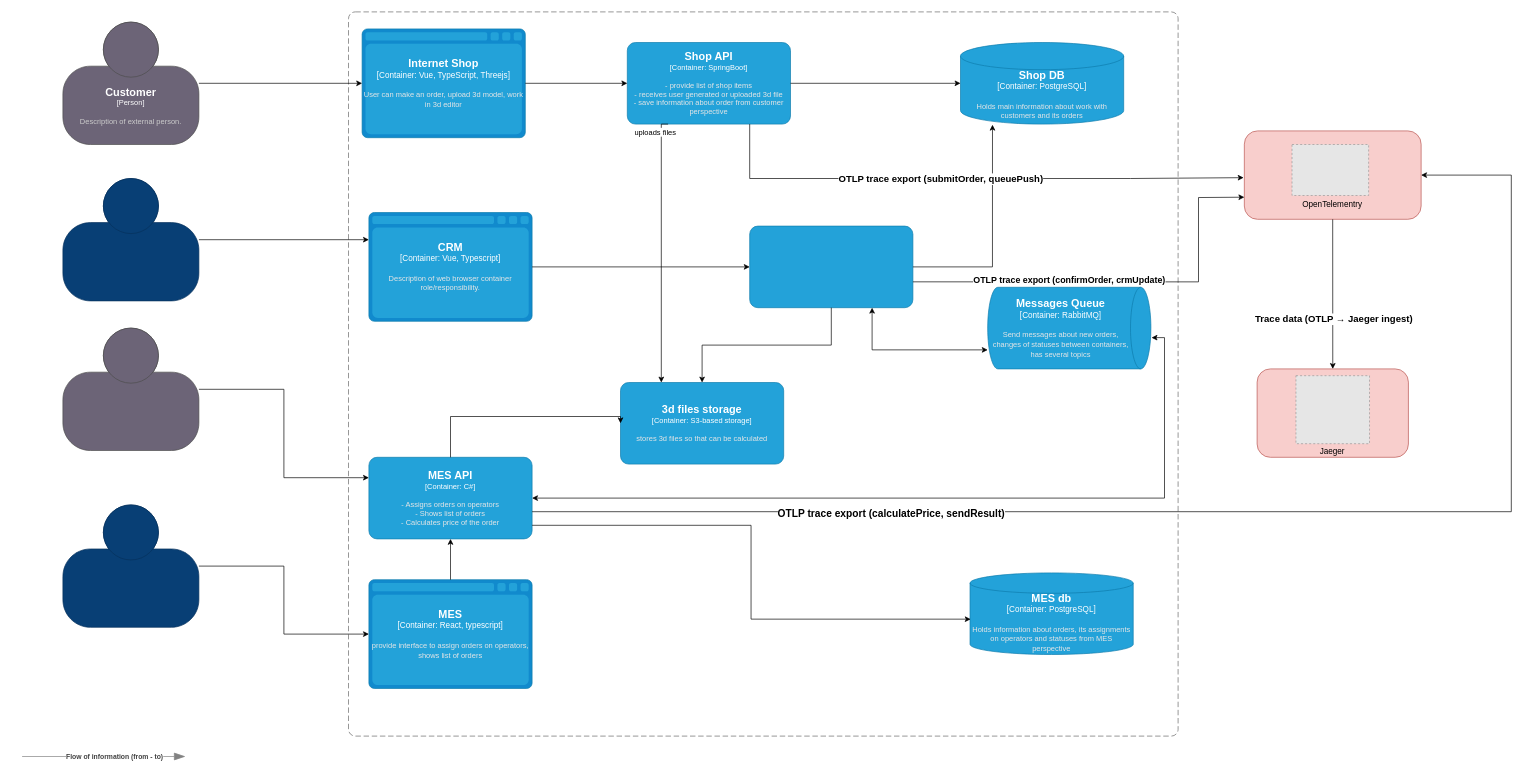
Some shapes in this 1529 by 779 pixel diagram are drawn without their labels. Grey dashed boxes stand in for pictures. The box of each missing label's shape, as (x1, y1, x2, y2) in pixels:
API user [Person] Description of external person.: (62, 327, 199, 451)
CRM API [Container: SpringBoot] Description of container role/responsibility.: (749, 225, 913, 308)
Jewerly Store System [Software System]: (348, 11, 1178, 736)
Operator [Person] Takes order in work, manufactures jewerly: (62, 504, 199, 627)
Seller [Person] Operates with order, confirms manufacturing for the user: (62, 178, 199, 301)
